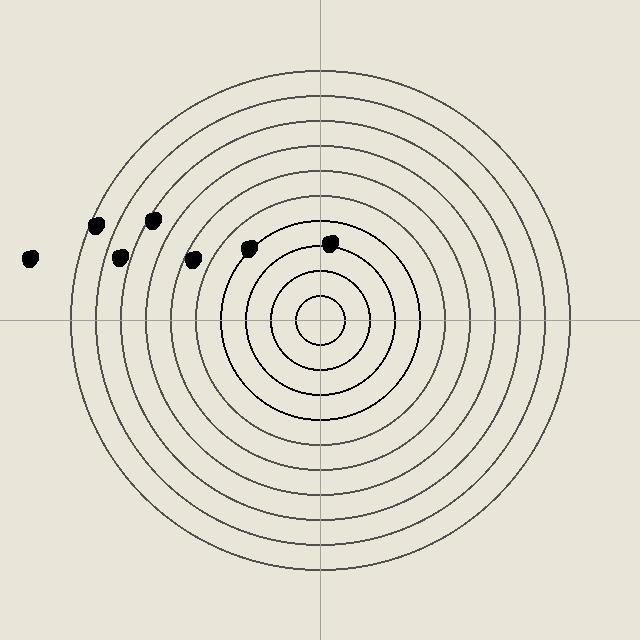horizontal_scatter: (85, 215, 105, 235), (182, 249, 202, 269), (142, 210, 162, 230), (19, 248, 39, 268), (109, 247, 129, 267), (319, 233, 339, 253), (238, 238, 258, 258)
